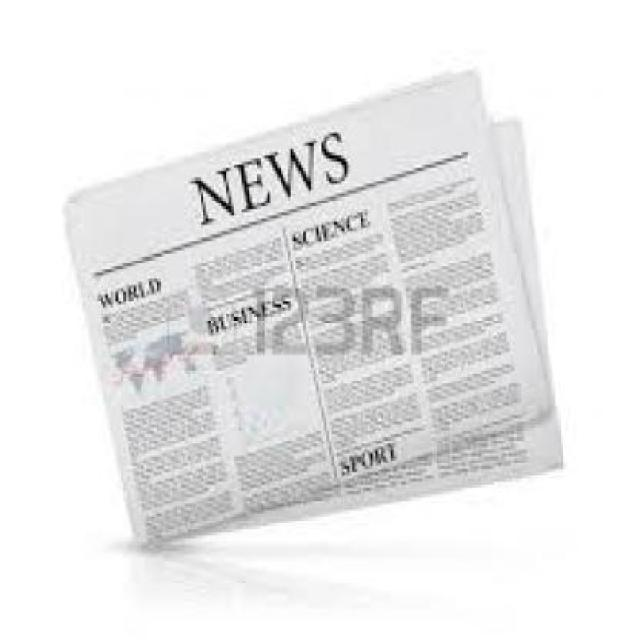PAPER: (61, 67, 548, 531), (201, 114, 561, 526)
